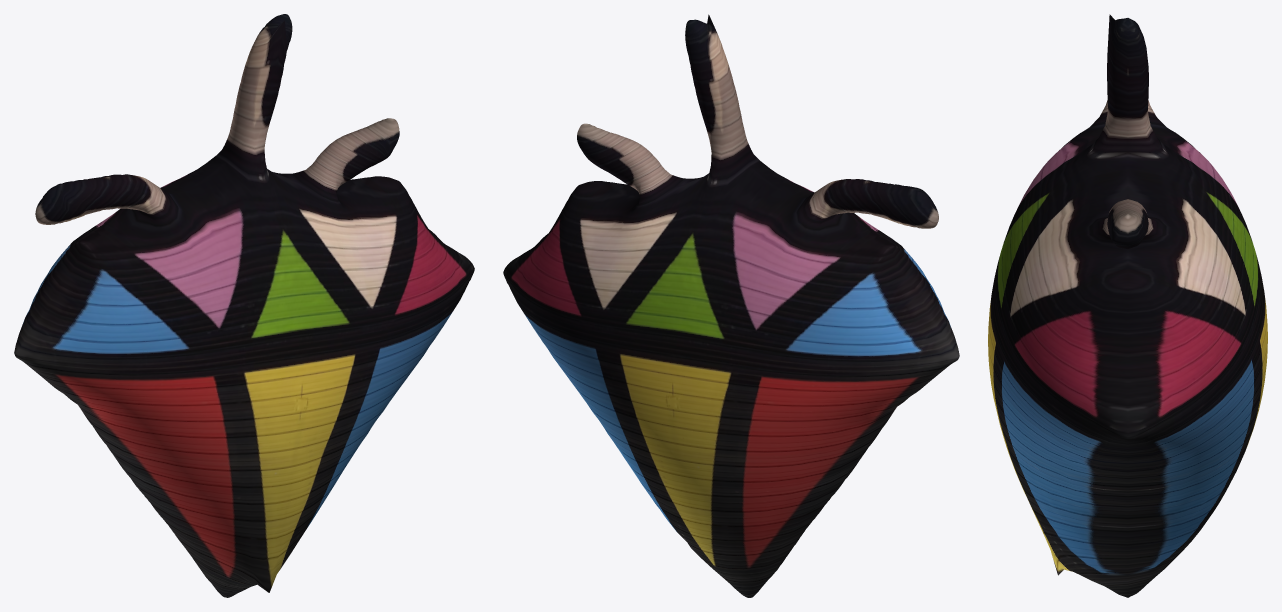
Rendered from Diamond15.glb.
The picture shows the model from 3 angles, left to right: view 1: azimuth 30°, elevation 25°; view 2: azimuth 150°, elevation 25°; view 3: azimuth 270°, elevation 25°; orthographic projection. The views are drawn at different scales.
Bounding box in the file's own units: 4.79 × 5.7 × 2.37.
1 material, 1 textured.
